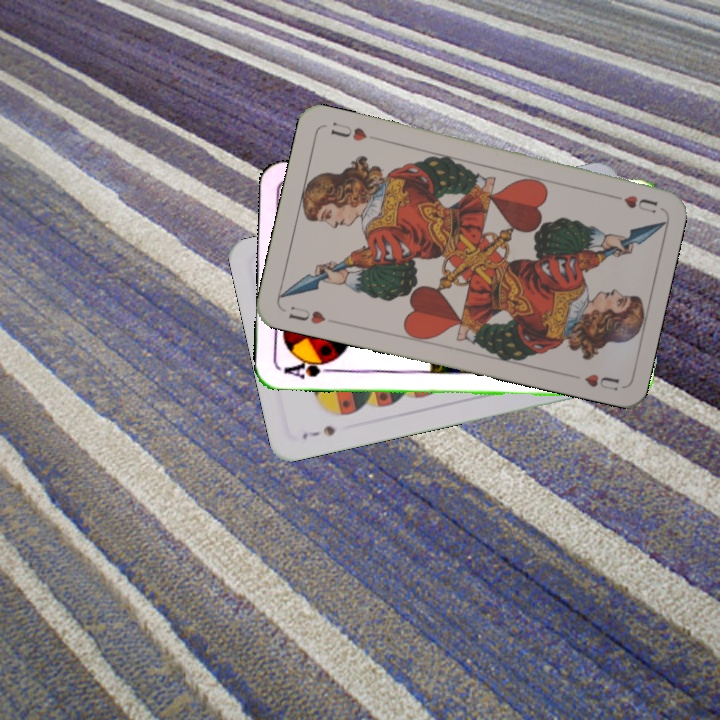HU: (604, 189, 660, 215), (285, 302, 329, 327)
S7: (298, 421, 338, 442)
SA: (279, 355, 338, 382)
